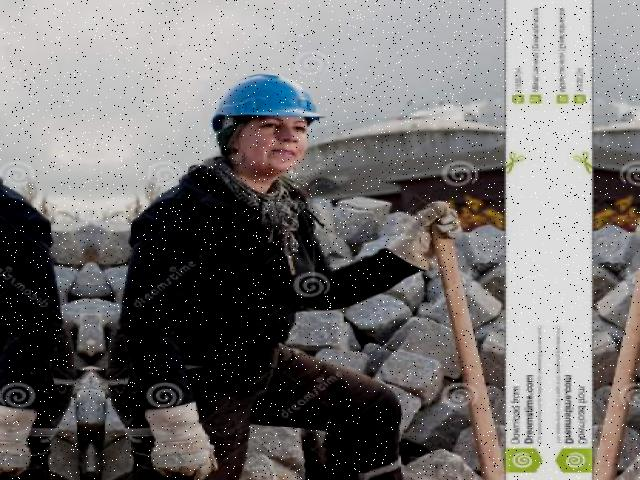Helmet: (205, 68, 332, 137)
